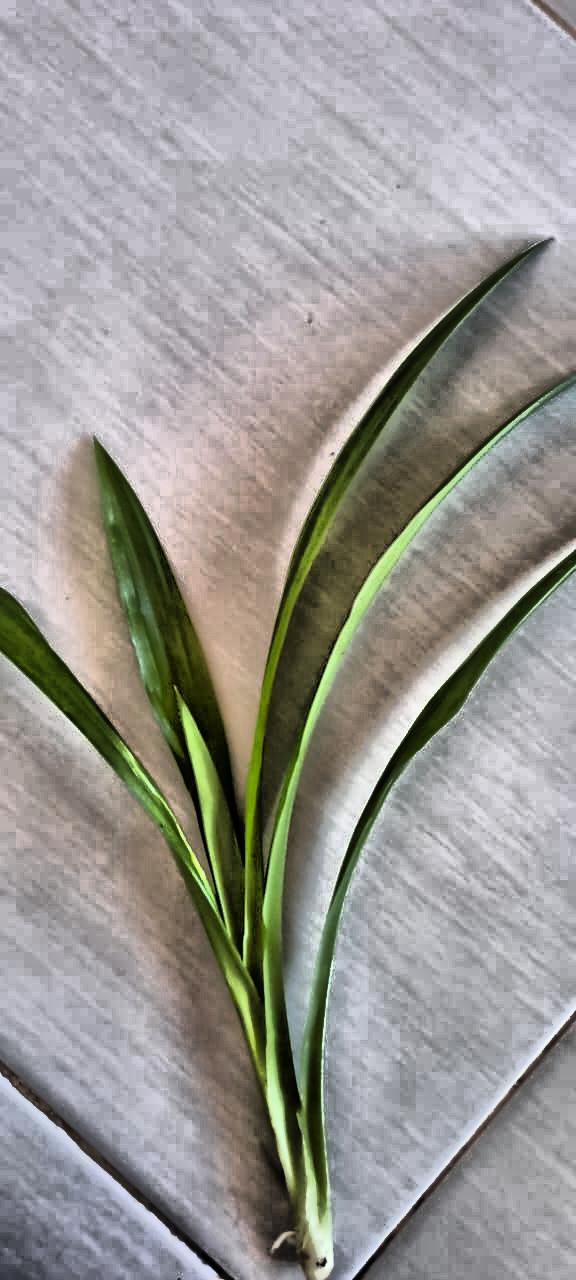daun pandan: (0, 246, 575, 1279)
